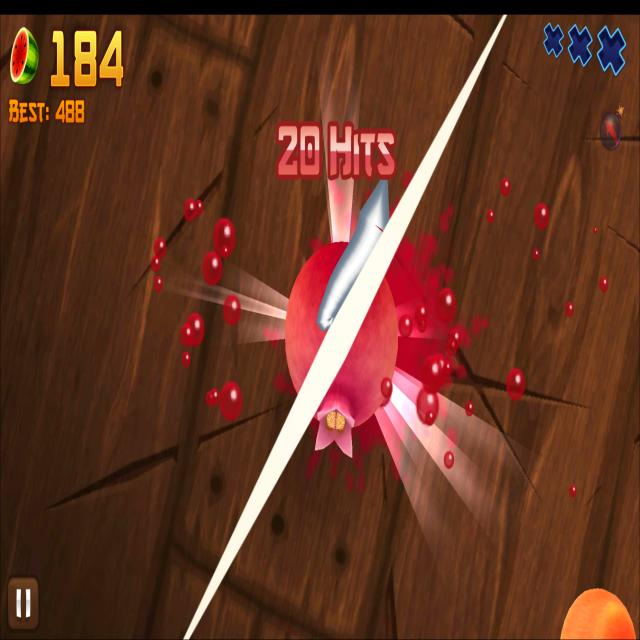fruit: (284, 238, 398, 429), (559, 586, 637, 640)
